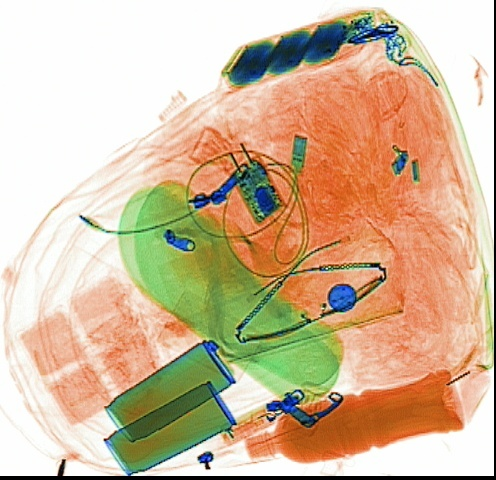powerbank: (218, 6, 372, 93)
